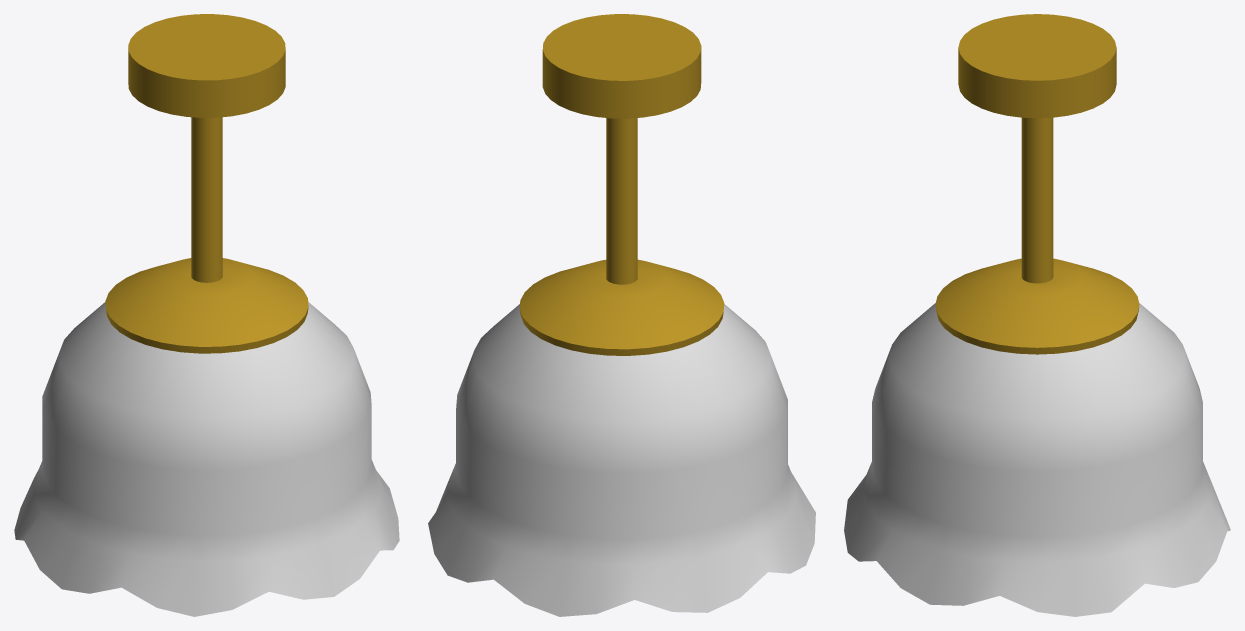
File: ceilingLight.fbx
3 views of the same model, side by side, from view 1: azimuth 30°, elevation 25°; view 2: azimuth 150°, elevation 25°; view 3: azimuth 270°, elevation 25° (orthographic).
Visible parts, largest first — view 1: Ceiling Light; view 2: Ceiling Light; view 3: Ceiling Light.
Boxes of the visible parts, box(x1,y1,x2,y2) form: Ceiling Light: box(14, 14, 399, 616); Ceiling Light: box(428, 14, 815, 616); Ceiling Light: box(844, 14, 1230, 616).
Bounding box in the file's own units: 68.74 × 68.74 × 95.94.
